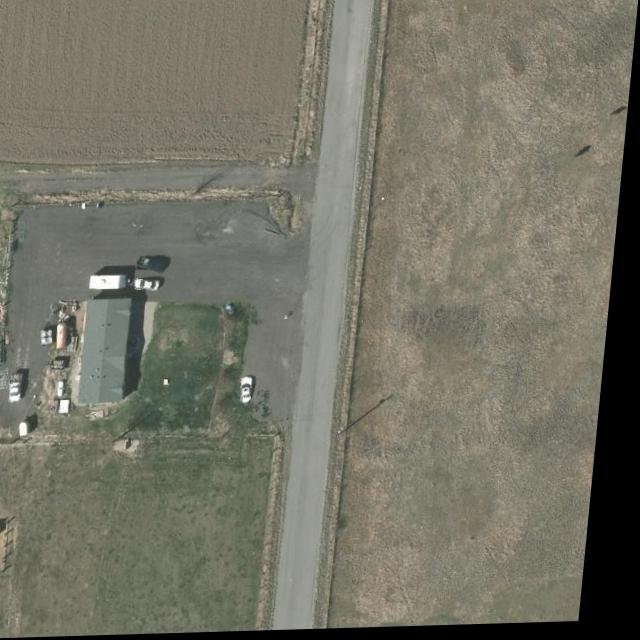vehicle: (14, 373, 33, 404), (142, 259, 173, 274), (138, 280, 168, 293), (246, 379, 260, 404)
